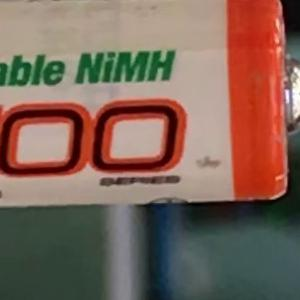keyword: (65, 41, 185, 94)
